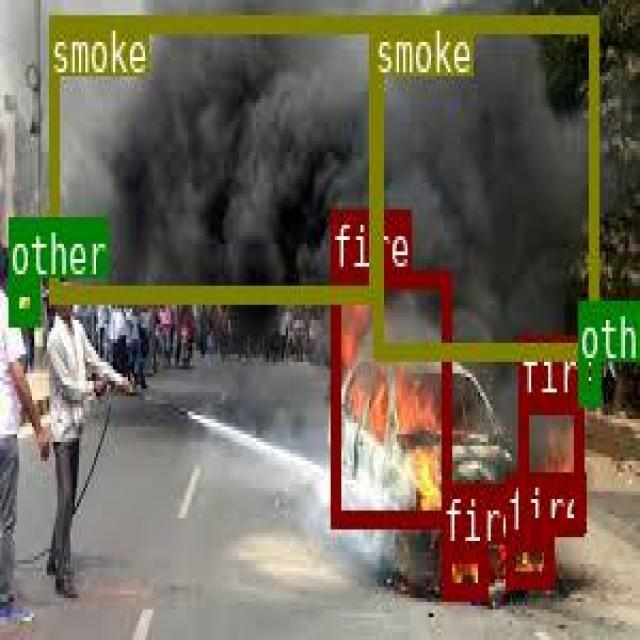fire: (331, 268, 449, 523), (518, 395, 581, 531), (503, 530, 551, 585), (441, 542, 485, 596)
smoke: (49, 13, 377, 298), (372, 12, 596, 356)
